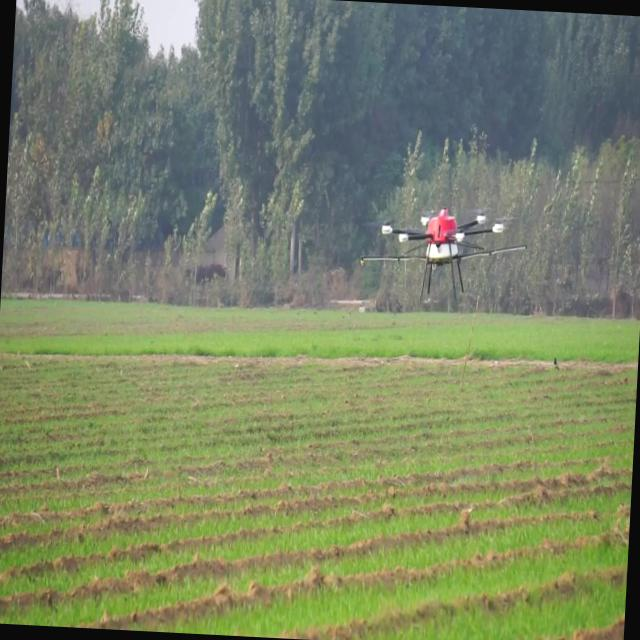drone: (357, 202, 531, 311)
